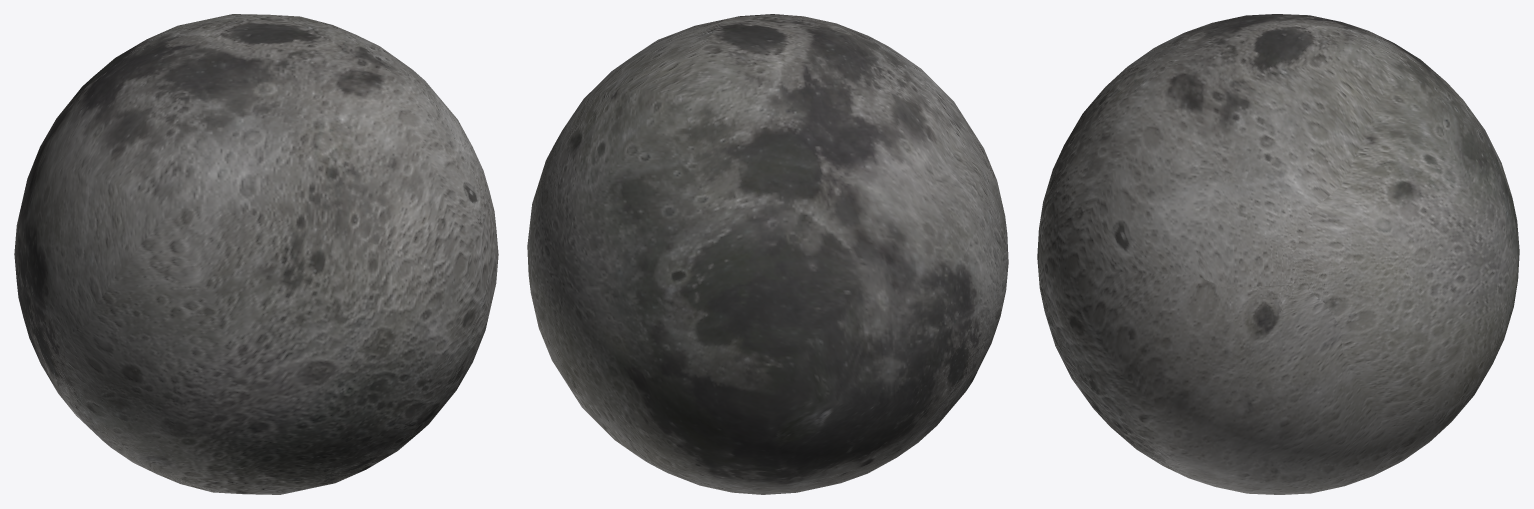
The model's file is Moon_2K.fbx.
3 views of the same model, side by side, from view 1: azimuth 30°, elevation 25°; view 2: azimuth 150°, elevation 25°; view 3: azimuth 270°, elevation 25° (orthographic).
Visible parts, largest first — view 1: Moon; view 2: Moon; view 3: Moon.
Part boxes in pixels (x1,y1,x2,y2): Moon: [14, 14, 498, 494]; Moon: [527, 14, 1008, 494]; Moon: [1037, 14, 1519, 494].
Size of the model in its own units: 403 by 402 by 400.
Materials: 1 (1 with a texture image).
